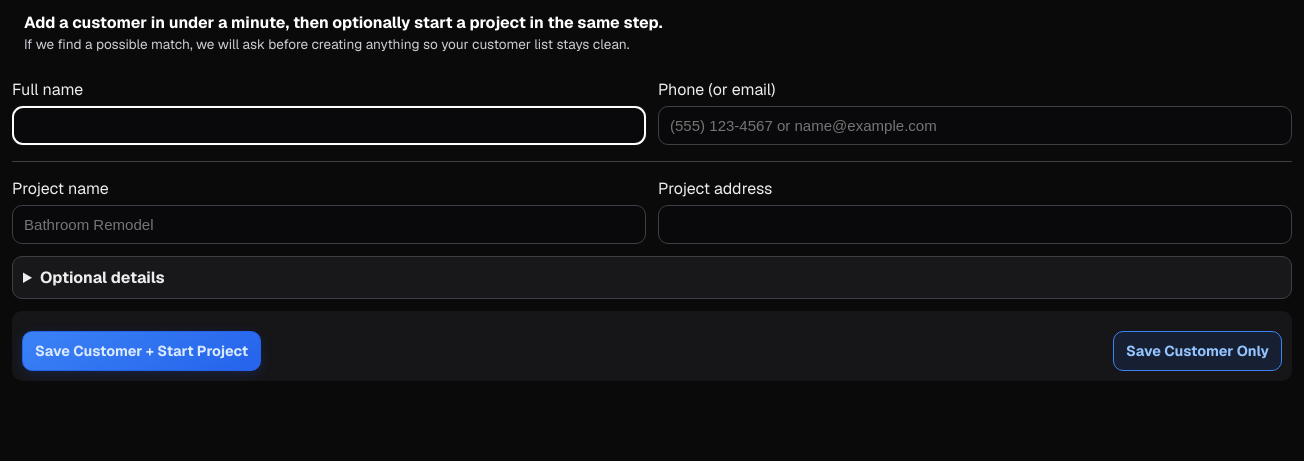
Test case: QuickAddConsole › shows field error for empty phone when name is provided
In the field labelled "Full name": (329, 126) [12,106,646,145], type "Jane Doe"
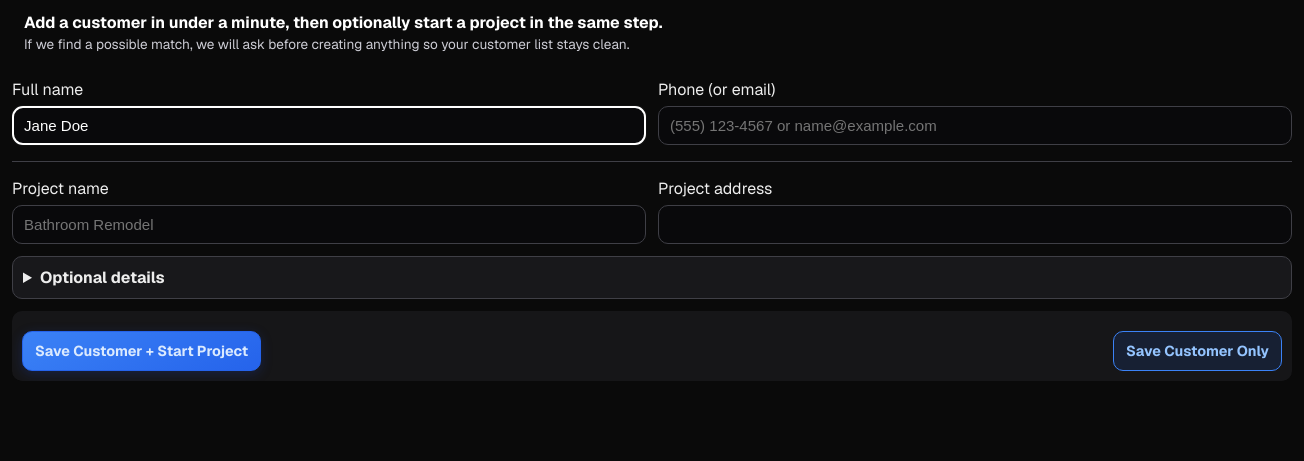
Click the button "Save Customer Only": (1198, 351) [1113,331,1282,371]
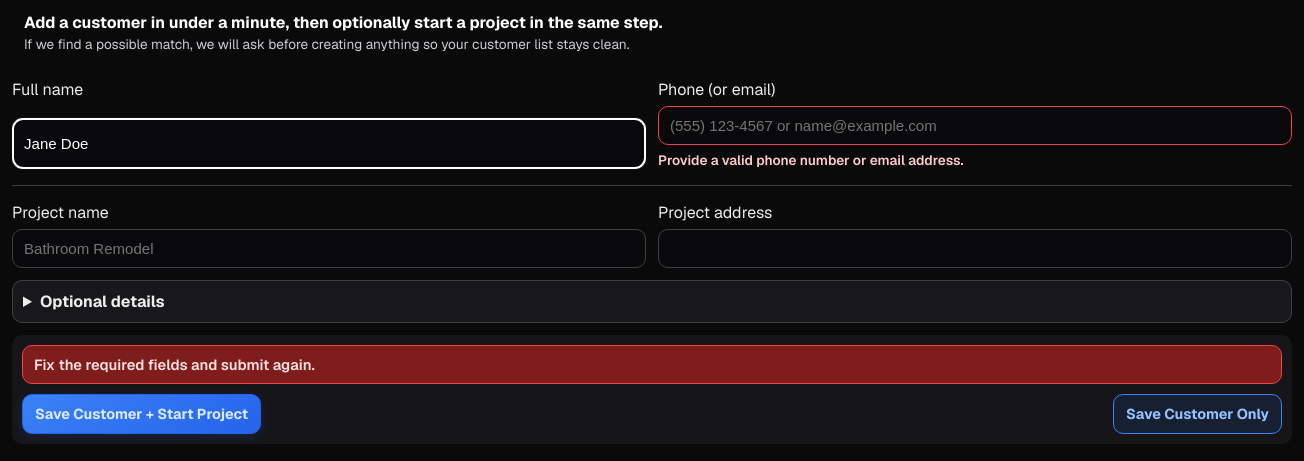
Result: the text "Provide a valid phone number or email address." is shown at [658,151,964,169]
